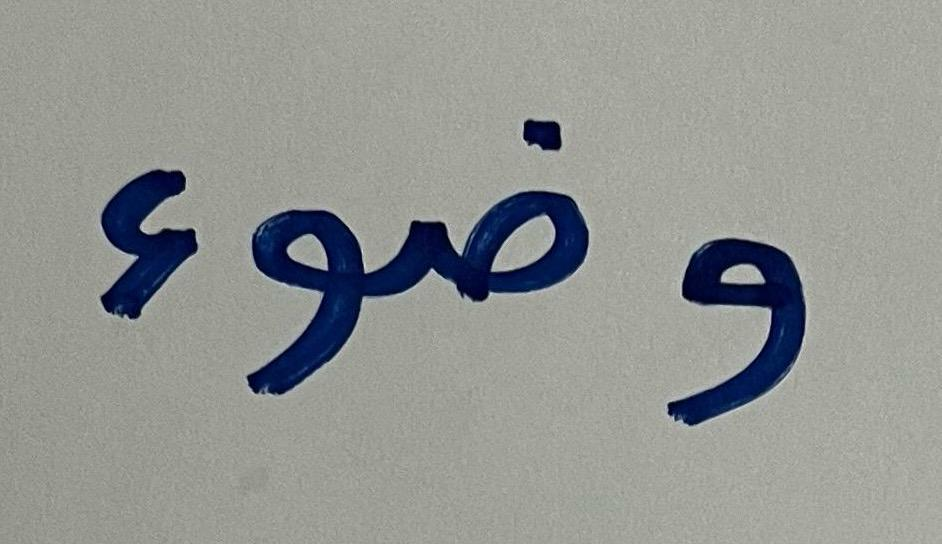dad: (388, 50, 614, 378)
hamza: (58, 115, 218, 364)
waw: (625, 155, 907, 467), (227, 167, 378, 423)
